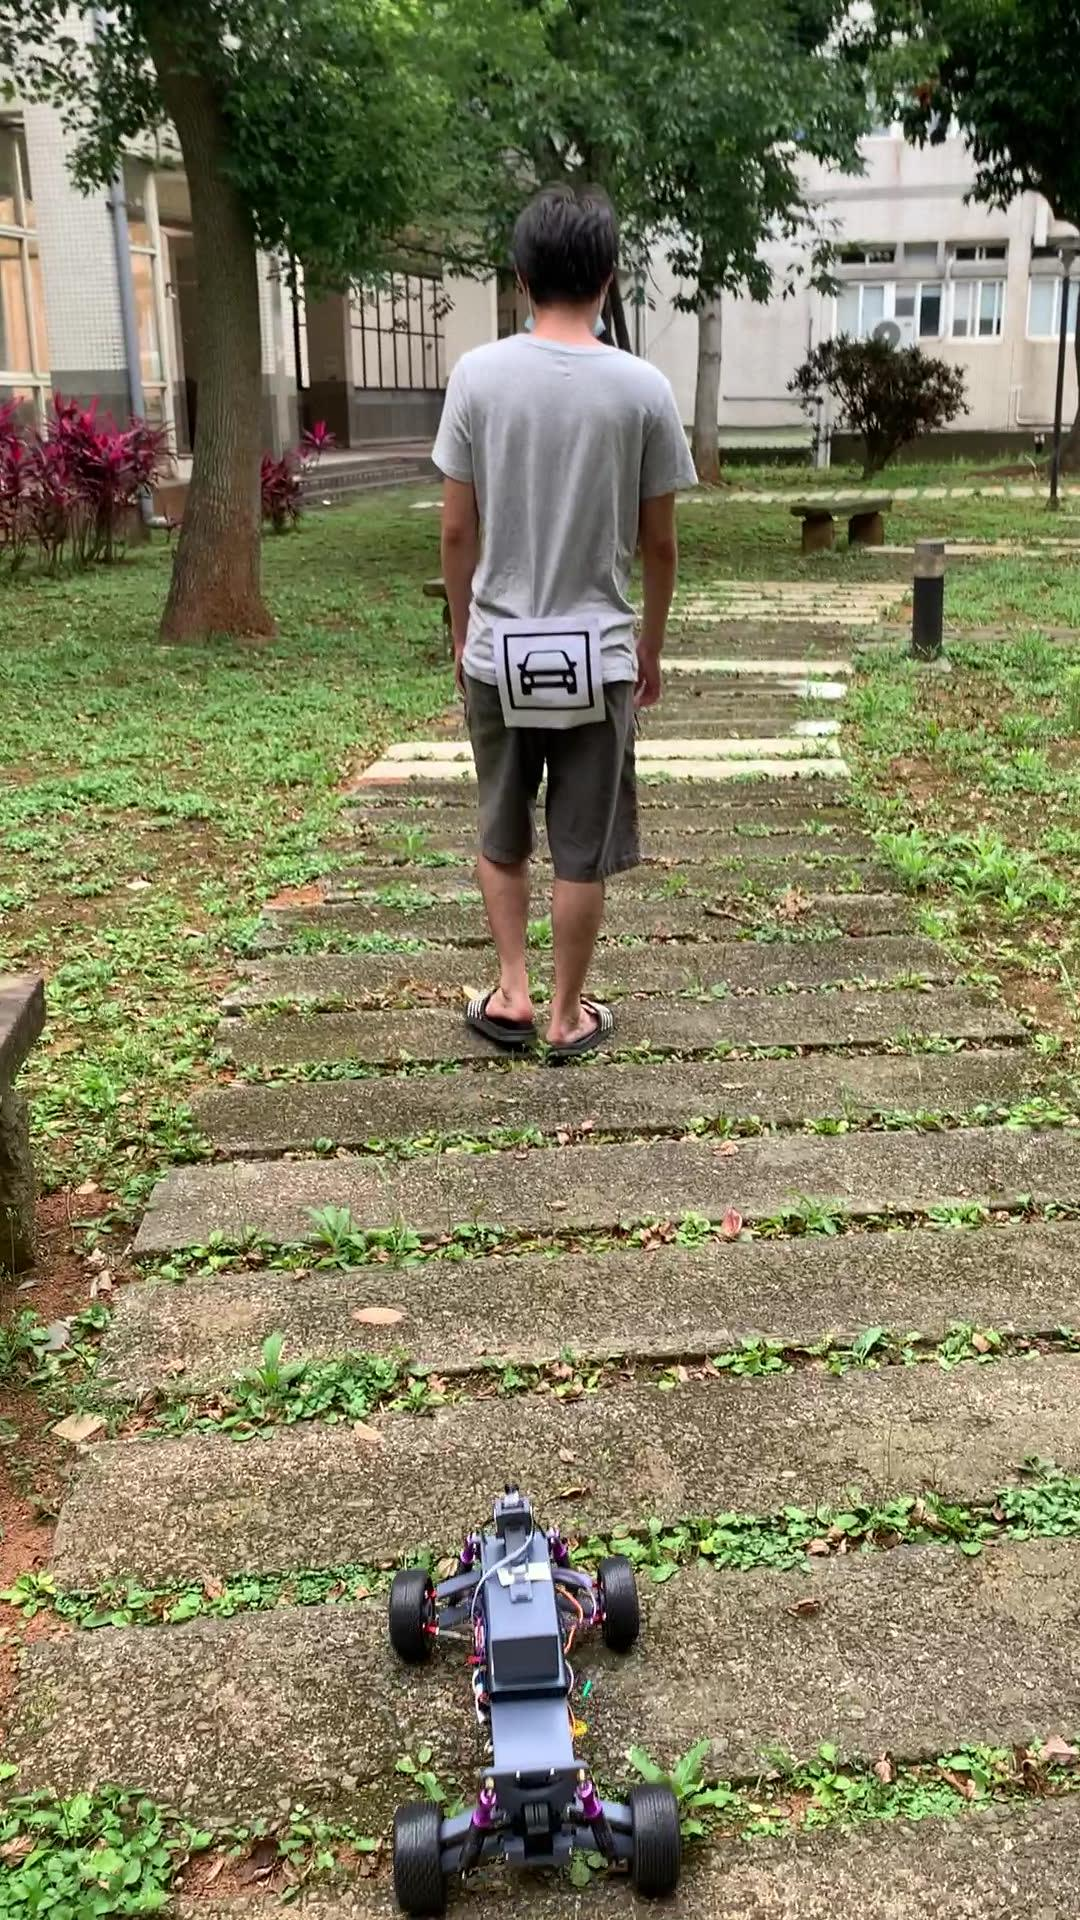car_img: (502, 630, 595, 711)
